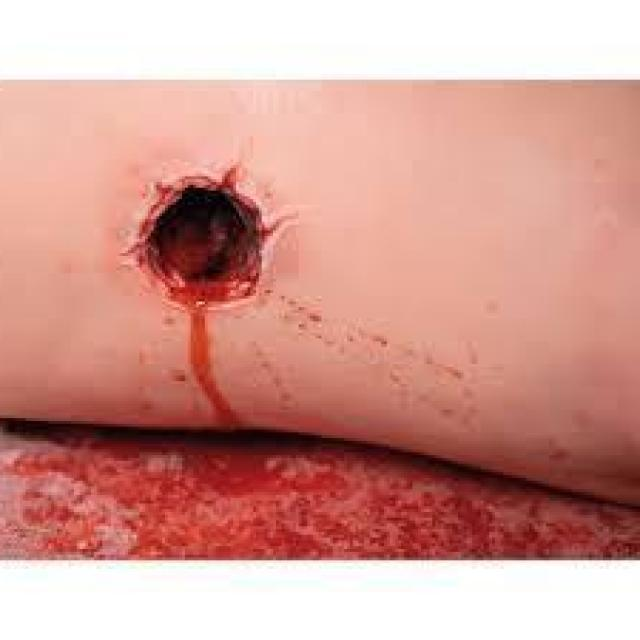flood: (0, 437, 640, 561), (149, 189, 249, 298)
